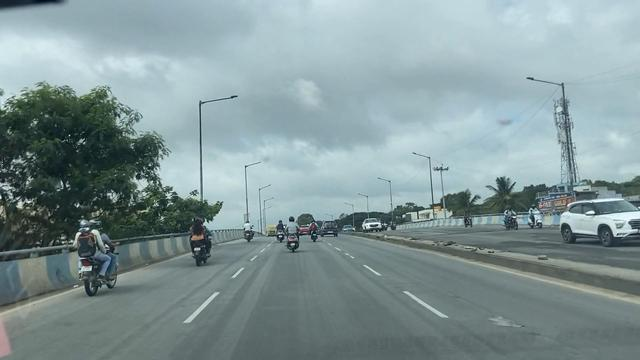LMV: (73, 221, 119, 291), (189, 216, 213, 262), (285, 215, 298, 252), (243, 217, 255, 243), (323, 219, 338, 238), (274, 219, 284, 243), (310, 219, 319, 244)
RoadDamages: (484, 313, 526, 333)
